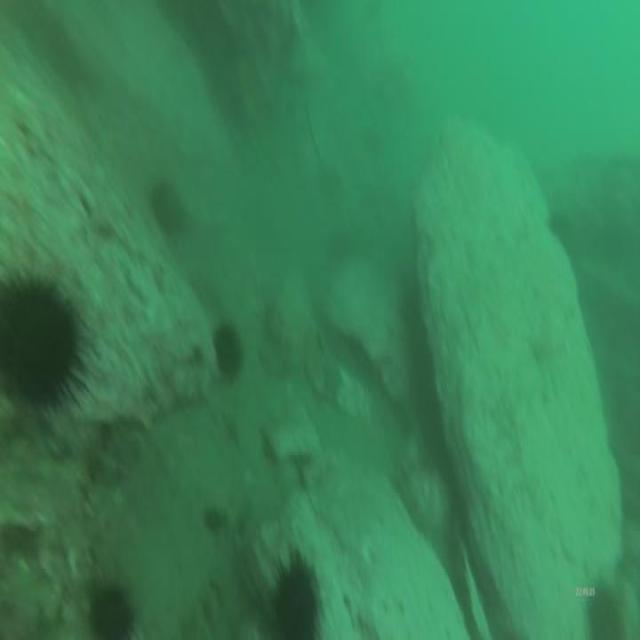echinus: (1, 264, 93, 430), (266, 551, 321, 640), (84, 577, 134, 640), (584, 573, 626, 640), (147, 174, 186, 240), (209, 316, 247, 382)
holothurian: (79, 411, 148, 542)
